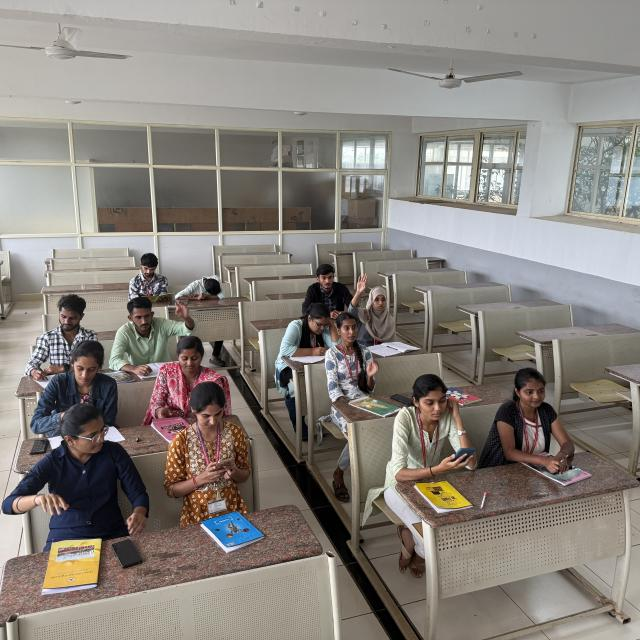Hand Rising: (348, 273, 396, 339)
Reading: (128, 253, 174, 302)
Sleeping: (174, 271, 227, 301)
Using Phone: (164, 381, 256, 496), (397, 373, 479, 479)
Writing: (21, 293, 108, 387), (495, 370, 572, 466), (282, 303, 339, 362)
